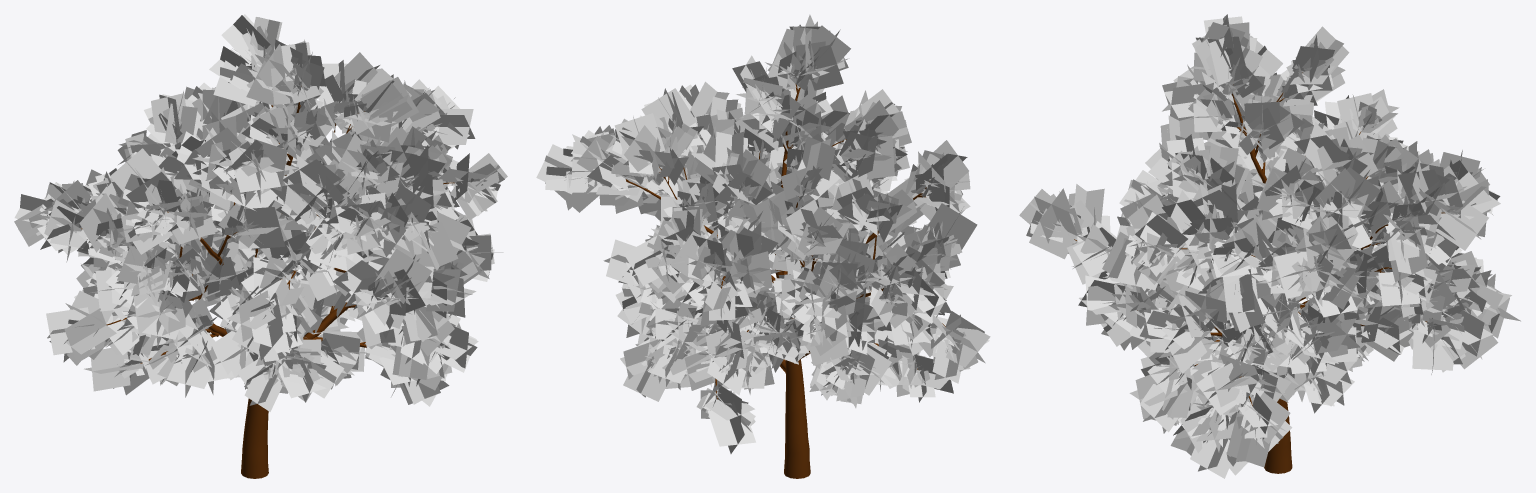
The model's file is arvore6.glb.
The picture shows the model from 3 angles, left to right: view 1: azimuth 30°, elevation 25°; view 2: azimuth 150°, elevation 25°; view 3: azimuth 270°, elevation 25°; orthographic projection. The views are drawn at different scales.
Visible parts, largest first — view 1: Mesh_1.003; view 2: Mesh_1.003; view 3: Mesh_1.003.
Part boxes in pixels (x1=…): Mesh_1.003: x1=14, y1=14, x2=507, y2=478; Mesh_1.003: x1=536, y1=14, x2=990, y2=478; Mesh_1.003: x1=1019, y1=14, x2=1520, y2=478.
Bounding box in the file's own units: 32.59 × 31.85 × 31.87.
